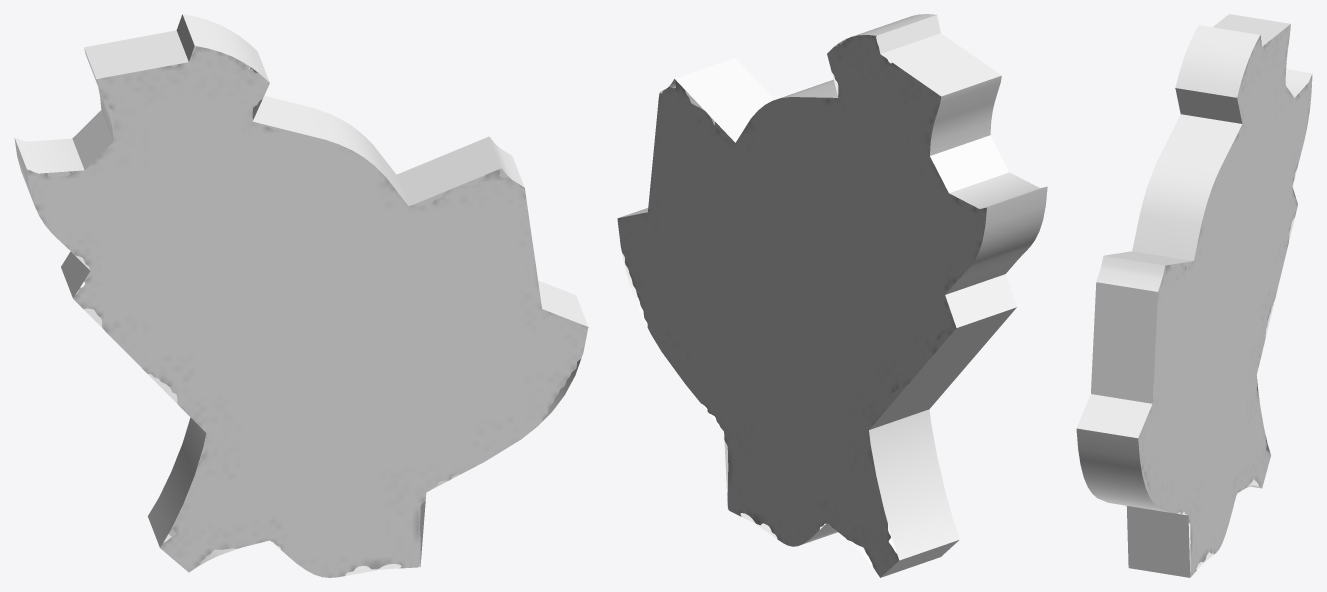
File: Basilicata.OBJ
3 renders of one model, left to right at view 1: azimuth 30°, elevation 25°; view 2: azimuth 150°, elevation 25°; view 3: azimuth 270°, elevation 25°, orthographic. The views are drawn at different scales.
Bounding box in the file's own units: 95.32 × 102 × 46.49.
3 materials, 3 textured.
